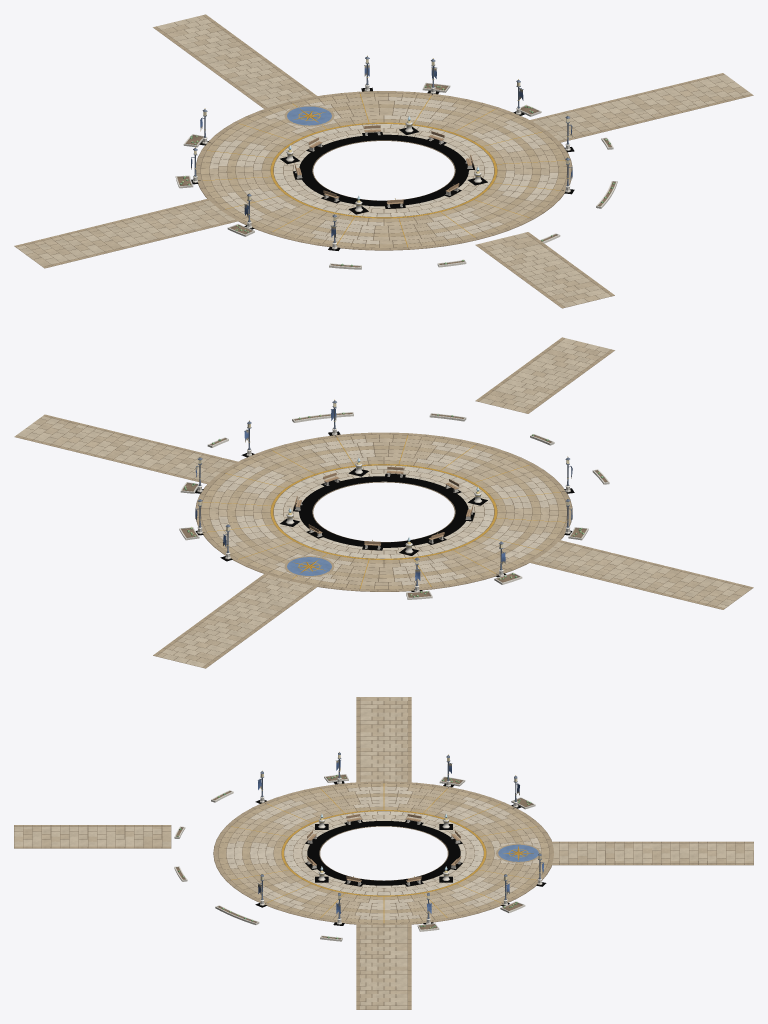
File: plaza_lite.glb
The picture shows the model from 3 angles, top to bottom: view 1: azimuth 30°, elevation 25°; view 2: azimuth 150°, elevation 25°; view 3: azimuth 270°, elevation 25°; orthographic projection. The views are drawn at different scales.
Parts seen in each view (by area): view 1: Plaza_paving, Plaza_props, Plaza_contact; view 2: Plaza_paving, Plaza_props, Plaza_contact; view 3: Plaza_paving, Plaza_props, Plaza_contact.
Part boxes in pixels (box(x1,y1,x2,y2)): Plaza_paving: box(14, 14, 753, 308); Plaza_props: box(175, 55, 617, 269); Plaza_contact: box(191, 87, 574, 250); Plaza_paving: box(14, 337, 753, 668); Plaza_props: box(179, 399, 609, 599); Plaza_contact: box(195, 431, 574, 591); Plaza_paving: box(14, 697, 753, 1009); Plaza_props: box(174, 751, 544, 941); Plaza_contact: box(255, 781, 546, 925).
Bounding box in the file's own units: 80 × 3.81 × 80.
4 materials, 1 textured.
